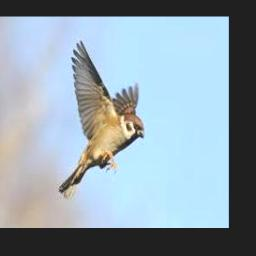Sparrow: (59, 40, 144, 201)
